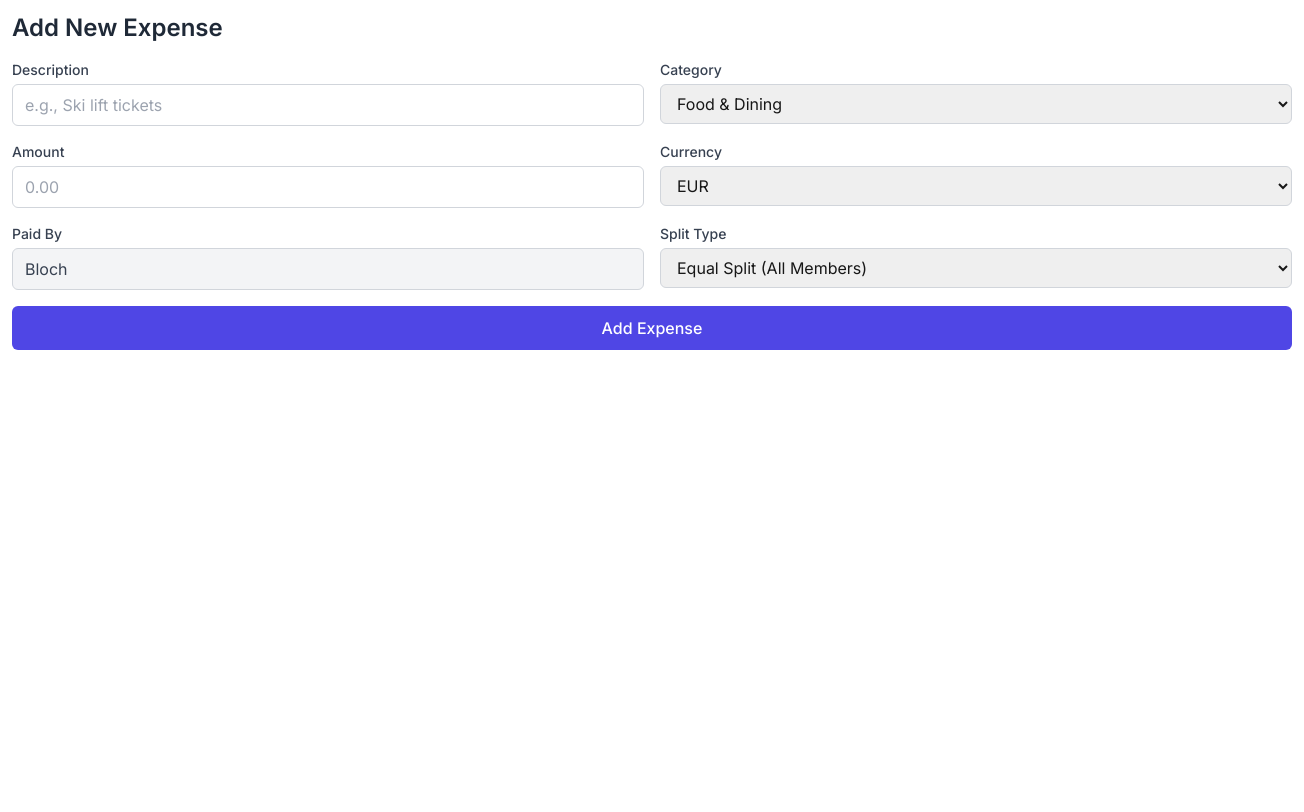
it: User Flow: Custom Split › should allow switching to custom split mode
Select "Custom Split" in the dropdown below "Split Type" at x=976, y=268, box [660,248,1292,288]
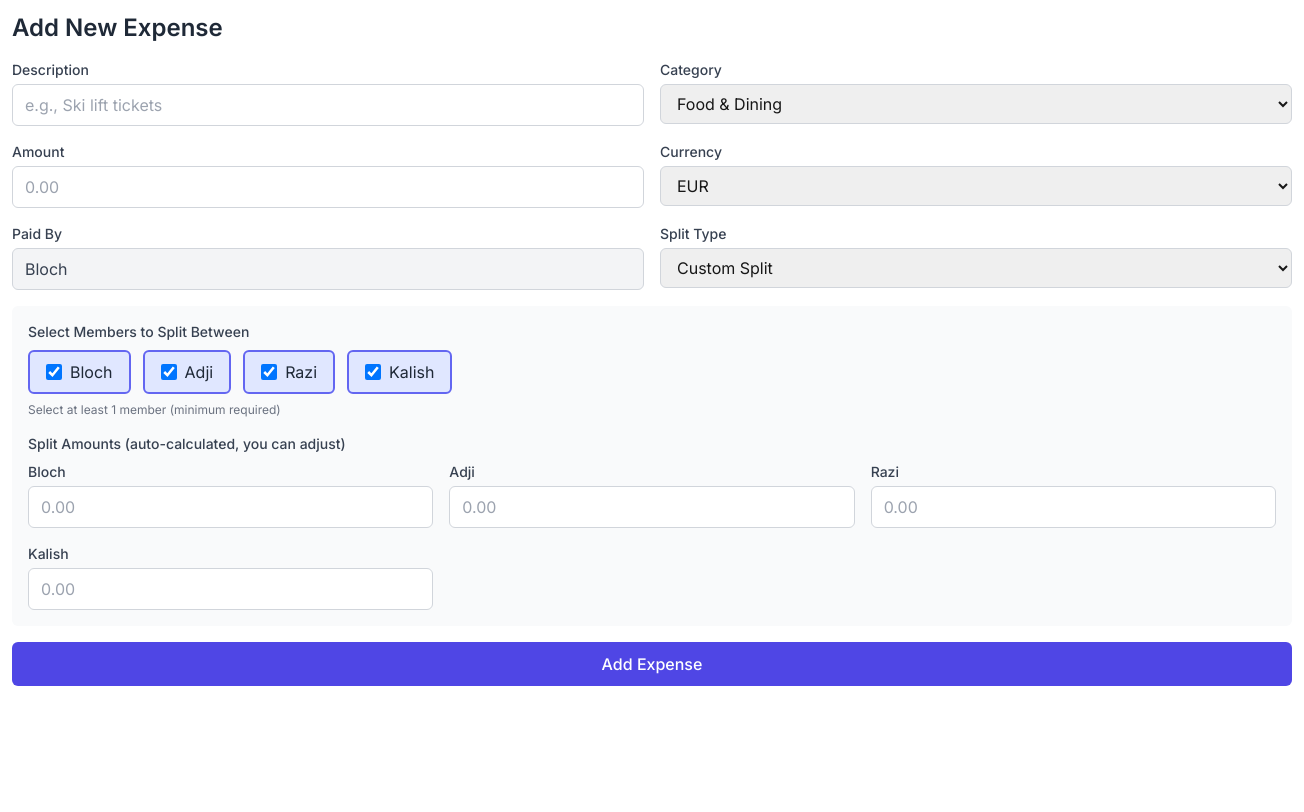
Expected: the text "Select Members to Split Between" is shown, [28,323,249,340]
